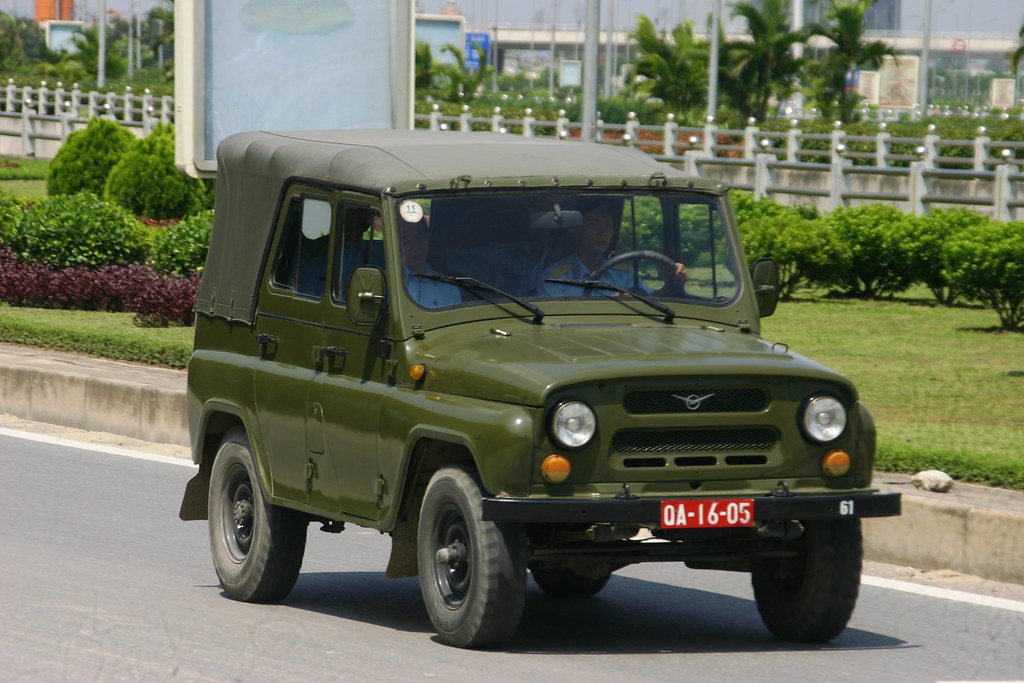plate: (658, 496, 756, 531)
